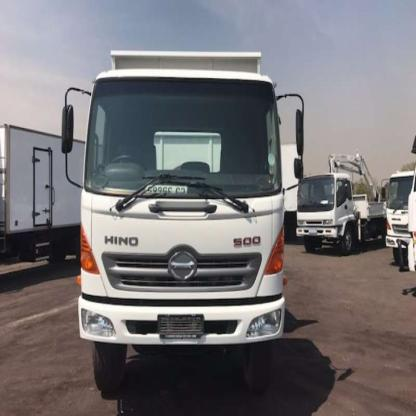dump_truck: (64, 23, 296, 399), (299, 167, 383, 264)
